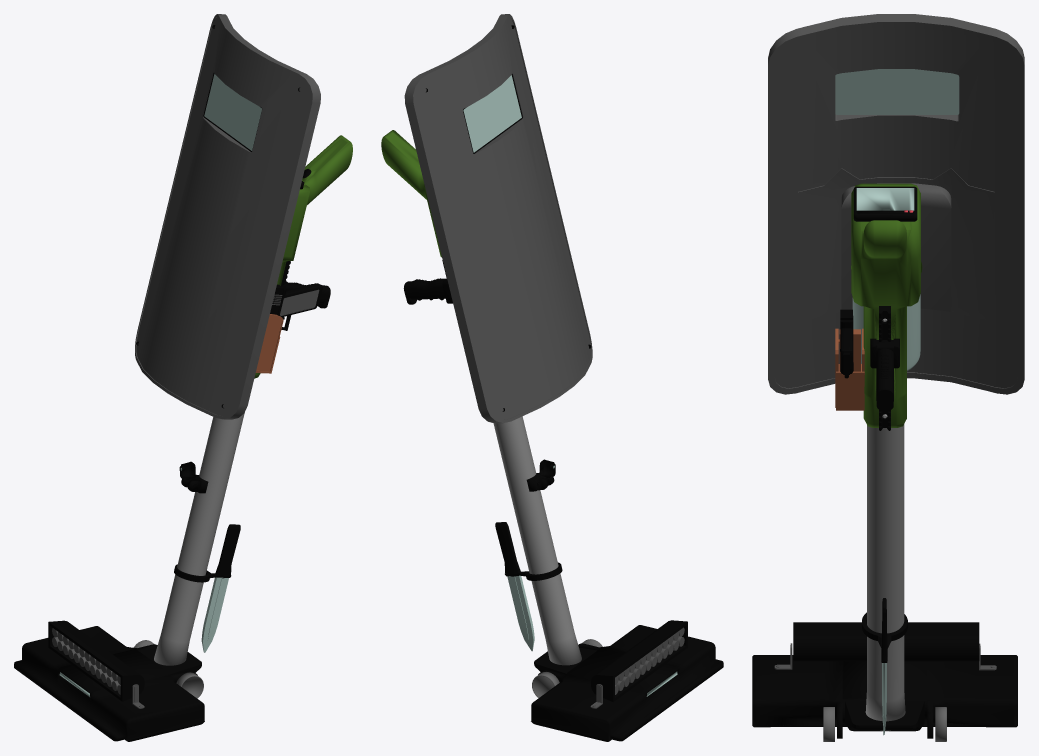
File: vacuumbat.glb
3 renders of one model, left to right at view 1: azimuth 30°, elevation 25°; view 2: azimuth 150°, elevation 25°; view 3: azimuth 270°, elevation 25°, orthographic. The views are drawn at different scales.
Parts seen in each view (by area): view 1: Shield, Head body, Tube, Lamp, Vacuum body, Gun, Knife, Camera, Head connection; view 2: Shield, Head body, Tube, Lamp, Knife, Vacuum body, Handle, Camera, Head connection; view 3: Shield, Head body, Tube, Vacuum body, Lamp, Gun, Camera, Handle, Head connection, Glass container, Knife.
Boxes of the visible parts, x1,y1,x2,y2 form: Shield: [135, 14, 320, 419]; Head body: [14, 626, 204, 741]; Tube: [154, 413, 244, 665]; Lamp: [48, 620, 144, 708]; Vacuum body: [254, 135, 352, 378]; Gun: [255, 283, 322, 373]; Knife: [174, 524, 240, 652]; Camera: [179, 181, 304, 493]; Head connection: [139, 649, 201, 675]; Shield: [404, 14, 592, 423]; Head body: [531, 625, 723, 741]; Tube: [493, 416, 581, 665]; Lamp: [590, 620, 687, 708]; Knife: [495, 522, 562, 651]; Vacuum body: [381, 130, 441, 257]; Handle: [403, 278, 452, 304]; Camera: [526, 459, 555, 491]; Head connection: [534, 647, 596, 674]; Shield: [768, 14, 1024, 394]; Head body: [752, 655, 1017, 738]; Tube: [865, 424, 905, 731]; Vacuum body: [851, 183, 920, 427]; Lamp: [774, 622, 996, 670]; Gun: [835, 309, 864, 410]; Camera: [853, 186, 917, 221]; Handle: [870, 306, 899, 430]; Head connection: [845, 701, 924, 731]; Glass container: [852, 294, 920, 370]; Knife: [862, 598, 907, 735].
Bounding box in the file's own units: 1.31 × 2.74 × 0.8716.
